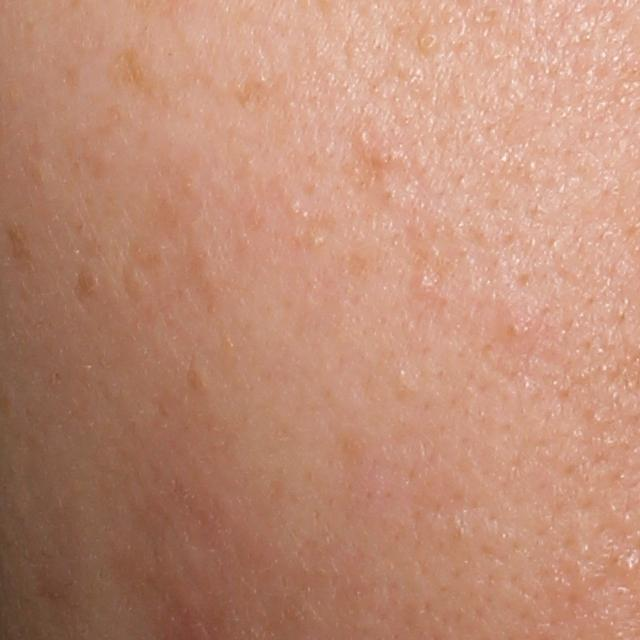comedo: (188, 357, 217, 403), (375, 146, 406, 168), (412, 270, 433, 299), (416, 31, 443, 52), (354, 130, 373, 151)
melasma: (107, 37, 147, 92), (72, 264, 102, 303)
